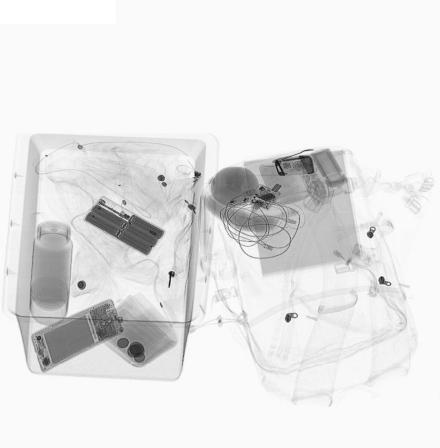Powerbank: (82, 195, 169, 257)
